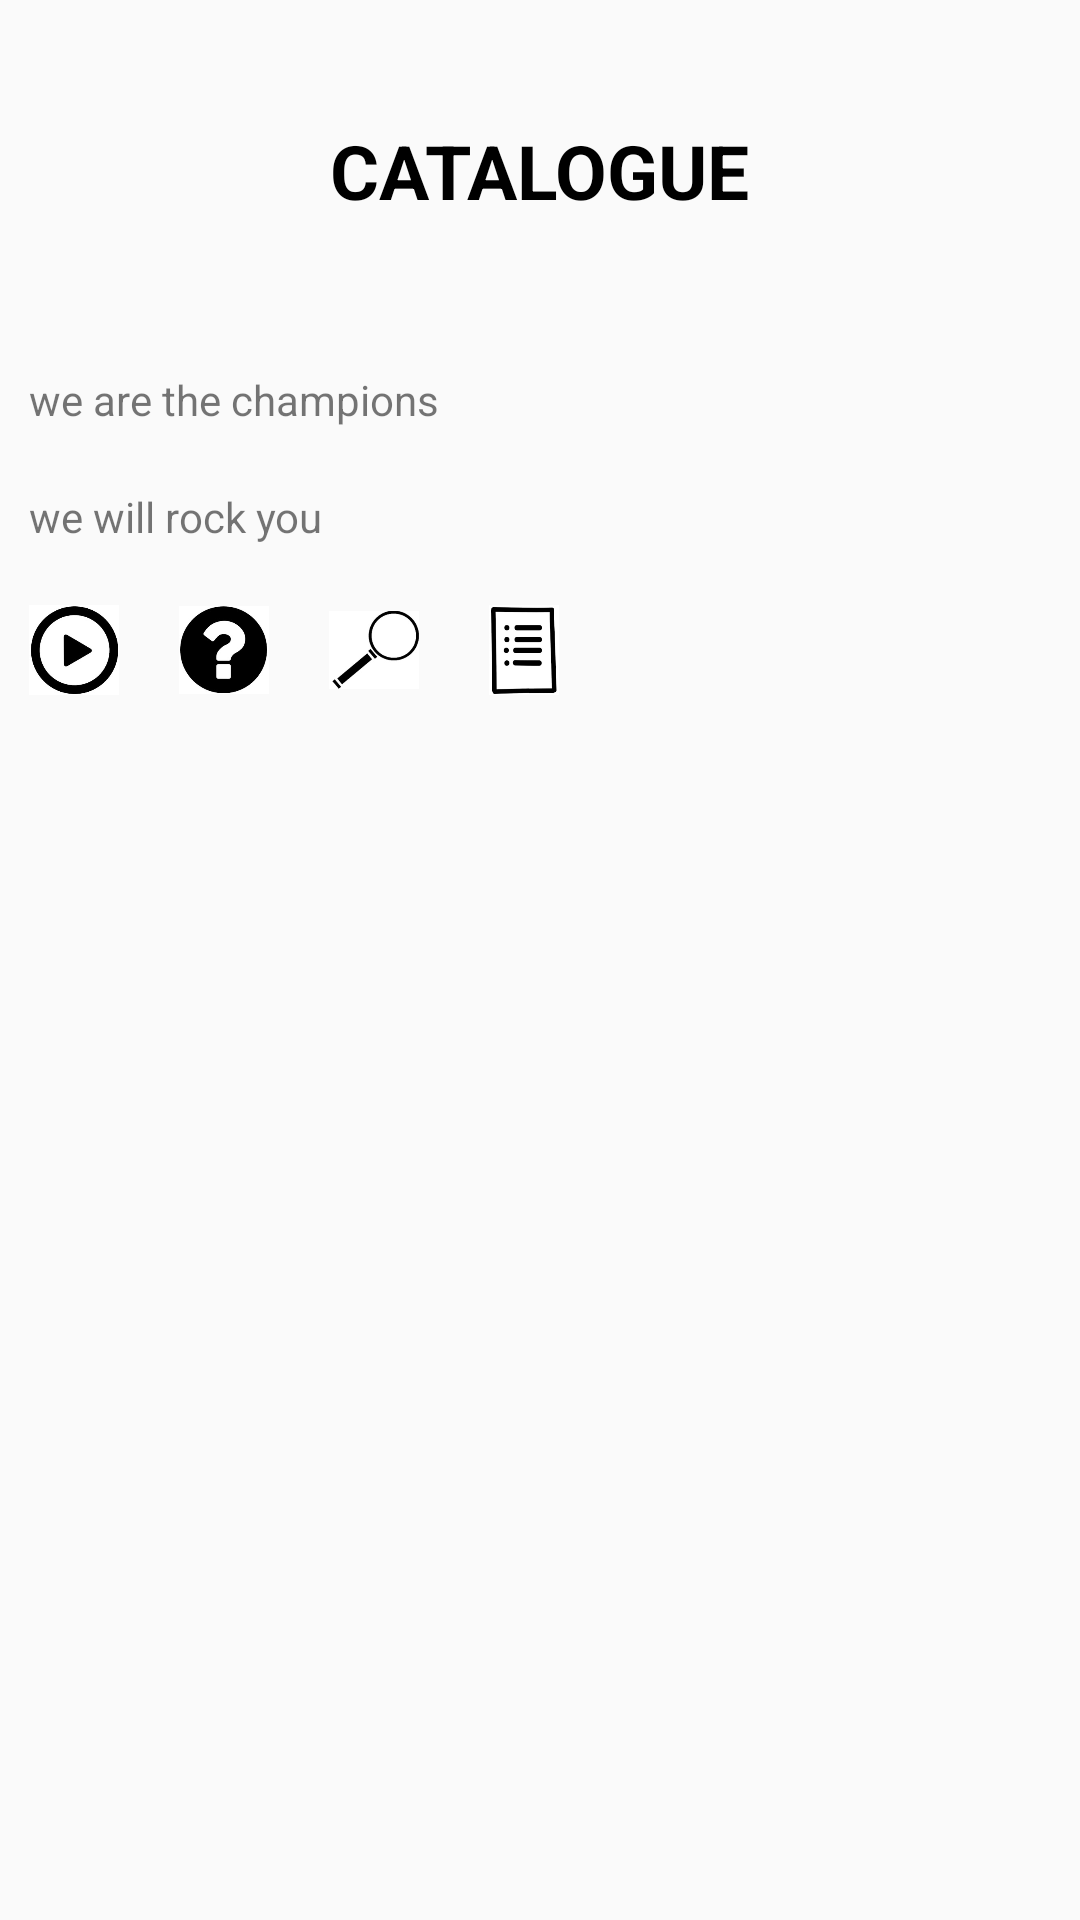

Icons on this 1080×1920 Android screen, each with the point to tap as (x,y):
list: (524,650)
play: (74,650)
search: (375,650)
